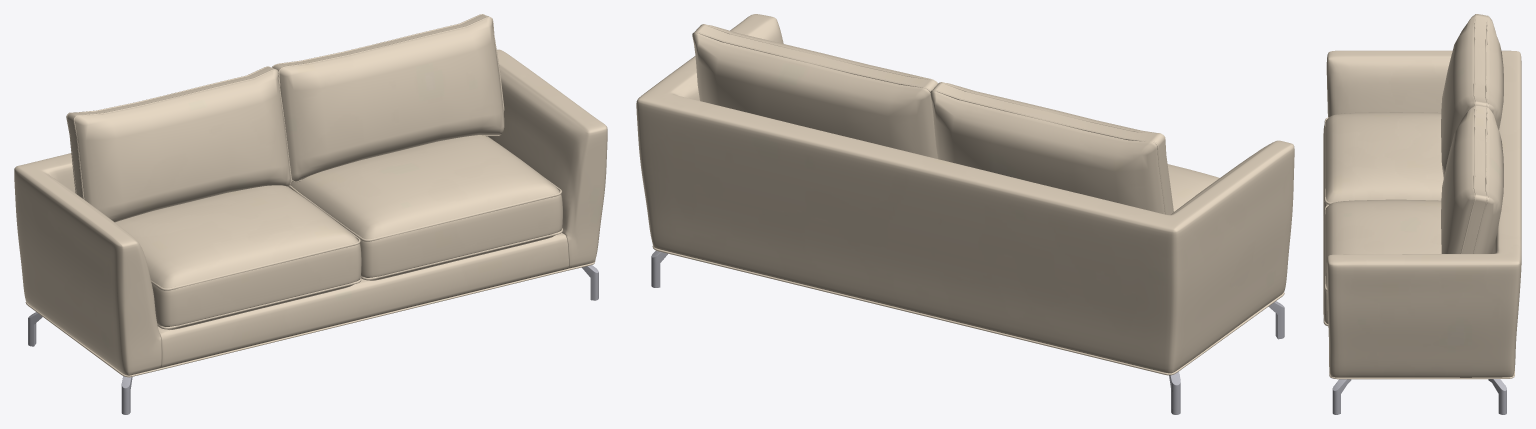
The model's file is sofa_B072C8Q9N5.glb.
The picture shows the model from 3 angles, left to right: view 1: azimuth 30°, elevation 25°; view 2: azimuth 150°, elevation 25°; view 3: azimuth 270°, elevation 25°; orthographic projection. The views are drawn at different scales.
Parts seen in each view (by area): view 1: RootNode; view 2: RootNode; view 3: RootNode.
Boxes of the visible parts, x1,y1,x2,y2 form: RootNode: (14,14,607,414); RootNode: (636,14,1294,414); RootNode: (1323,14,1521,414).
Size of the model in its own units: 2.21 by 1 by 0.8678.
Materials: 1 (1 with a texture image).
